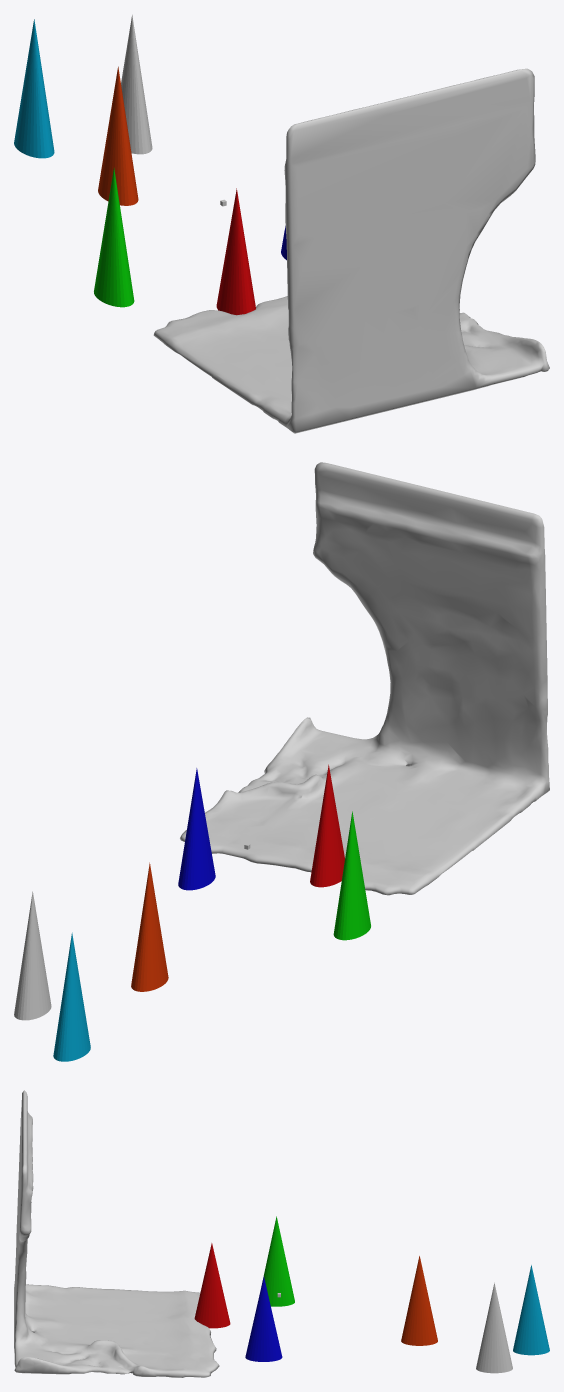
3 renders of one model, top to bottom at view 1: azimuth 30°, elevation 25°; view 2: azimuth 150°, elevation 25°; view 3: azimuth 270°, elevation 25°, orthographic. The views are drawn at different scales.
Visible parts, largest first — view 1: Liquid_Domain, 円錐.003, 円錐.005, 円錐.004, 円錐.001, 円錐; view 2: Liquid_Domain, 円錐.005, 円錐.003, 円錐.004, 円錐, 円錐.002, 円錐.001; view 3: Liquid_Domain, 円錐, 円錐.005, 円錐.004, 円錐.002, 円錐.001, 円錐.003.
Boxes of the visible parts, bbox=[...] form: Liquid_Domain: bbox=[153, 68, 549, 433]; 円錐.003: bbox=[94, 168, 134, 307]; 円錐.005: bbox=[14, 19, 54, 158]; 円錐.004: bbox=[98, 66, 138, 205]; 円錐.001: bbox=[216, 188, 255, 315]; 円錐: bbox=[121, 15, 152, 154]; Liquid_Domain: bbox=[180, 462, 549, 895]; 円錐.005: bbox=[53, 932, 90, 1061]; 円錐.003: bbox=[333, 811, 370, 940]; 円錐.004: bbox=[131, 862, 168, 991]; 円錐: bbox=[14, 891, 51, 1020]; 円錐.002: bbox=[178, 768, 215, 890]; 円錐.001: bbox=[310, 764, 344, 887]; Liquid_Domain: bbox=[14, 1090, 219, 1377]; 円錐: bbox=[476, 1282, 512, 1373]; 円錐.005: bbox=[513, 1265, 549, 1355]; 円錐.004: bbox=[401, 1256, 437, 1345]; 円錐.002: bbox=[245, 1276, 282, 1361]; 円錐.001: bbox=[194, 1243, 230, 1328]; 円錐.003: bbox=[262, 1216, 294, 1306].
Size of the model in its own units: 129 by 158 by 347.
